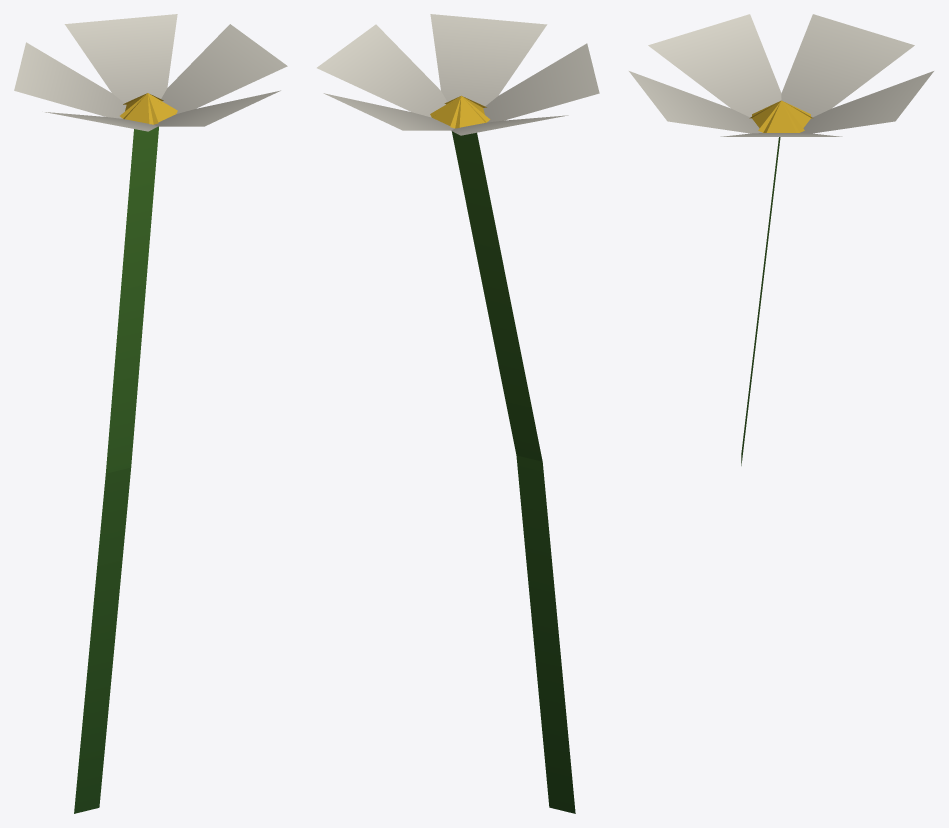
File: flower_white.glb
3 views of the same model, side by side, from view 1: azimuth 30°, elevation 25°; view 2: azimuth 150°, elevation 25°; view 3: azimuth 270°, elevation 25° (orthographic). The views are drawn at different scales.
Visible parts, largest first — view 1: flower_white; view 2: flower_white; view 3: flower_white.
Boxes of the visible parts, x1=… form: flower_white: x1=14, y1=14, x2=287, y2=813; flower_white: x1=317, y1=14, x2=599, y2=813; flower_white: x1=629, y1=14, x2=933, y2=465.
Bounding box in the file's own units: 0.1451 × 0.4245 × 0.1526.
